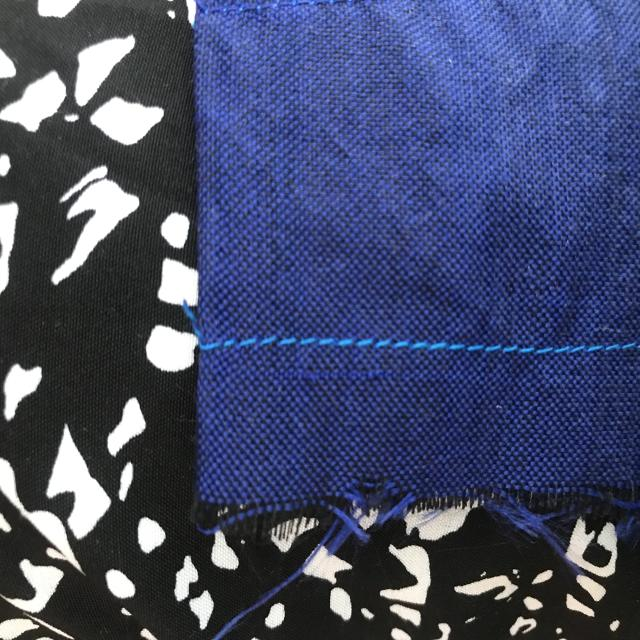good: (418, 332, 510, 362), (560, 337, 626, 363)
